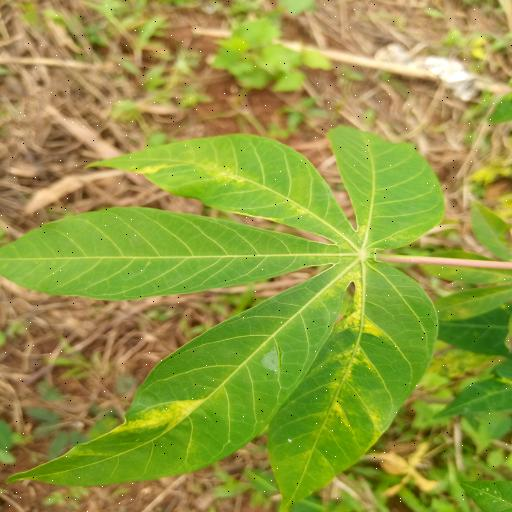Cassava_Mosaic: (5, 119, 447, 508)
